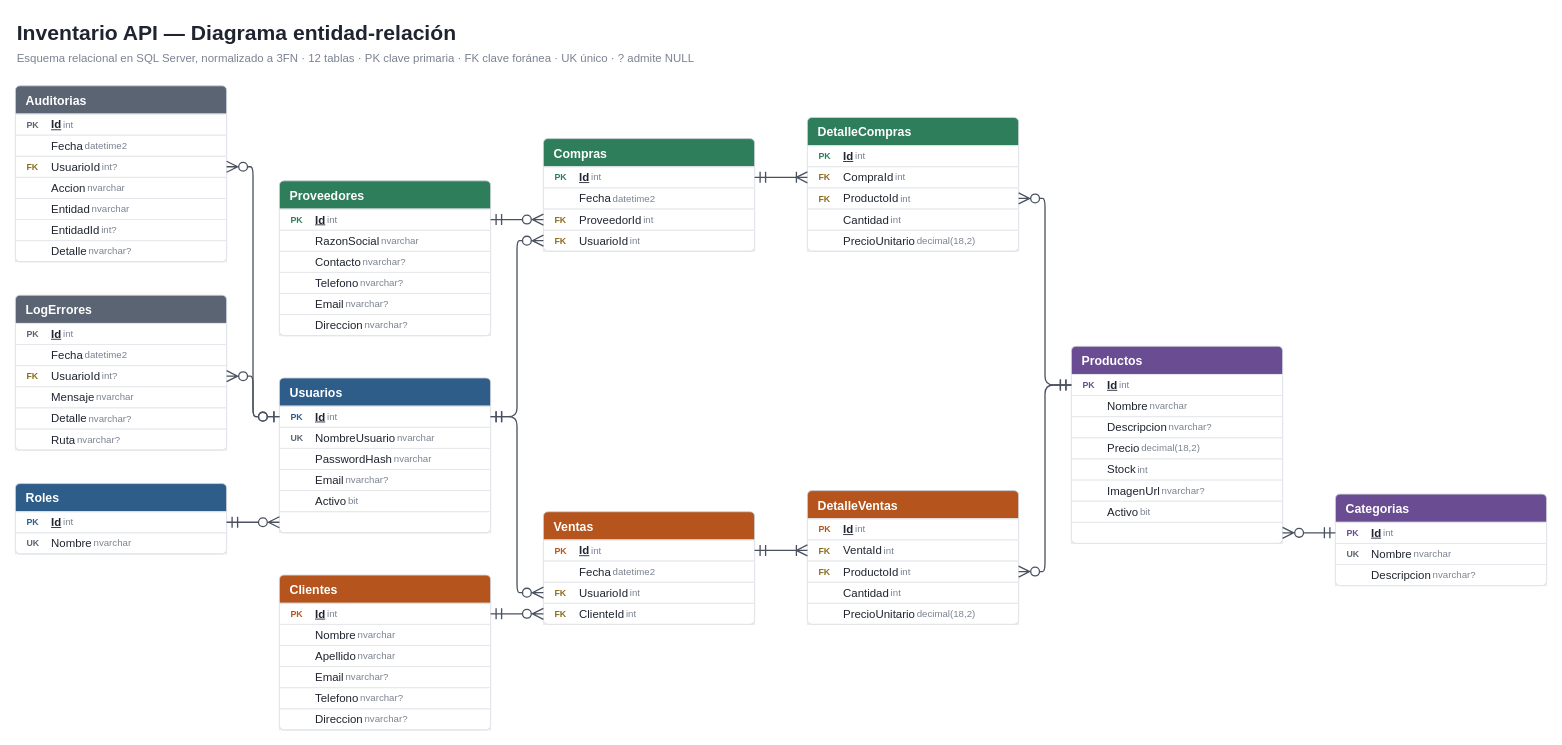
Image size: 1562x745. Some labels were removed from this diagram. Here are the shapes that lost their labels. From the top down, the centre of each, then its label:
pixel 385 522: FK RolId int
pixel 1177 532: FK CategoriaId int
